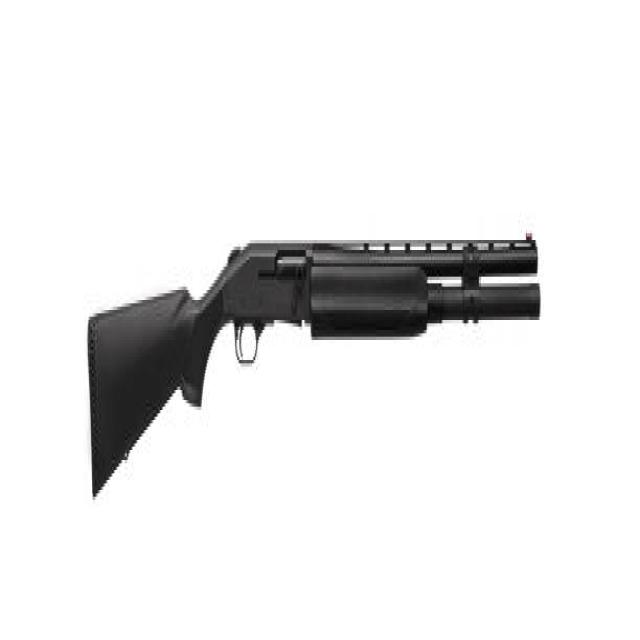rifle: (82, 212, 548, 515)
